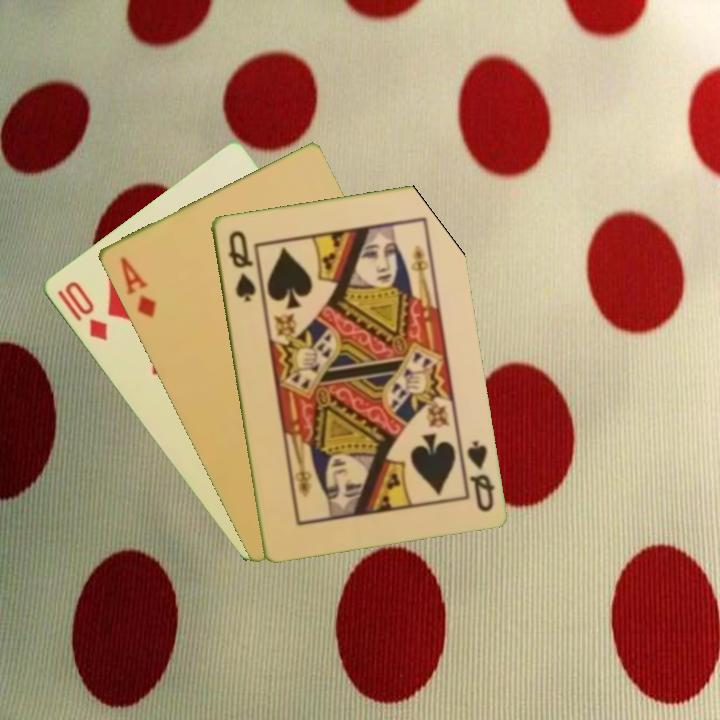10d: (53, 277, 110, 344)
Ad: (115, 253, 159, 321)
Qs: (462, 437, 497, 515), (224, 226, 258, 305)
